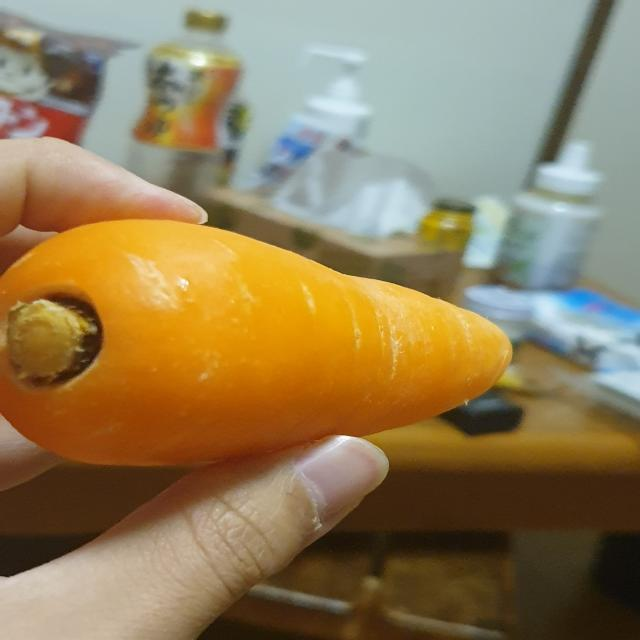carrot: (1, 208, 525, 476)
